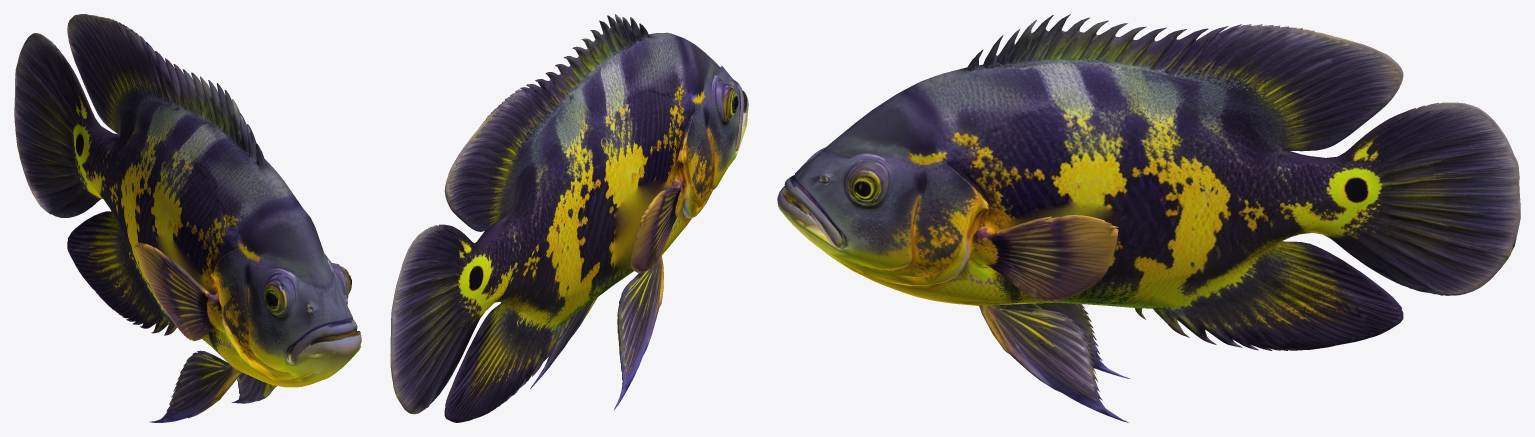
Rendered from cichlid-1.glb.
The picture shows the model from 3 angles, left to right: view 1: azimuth 30°, elevation 25°; view 2: azimuth 150°, elevation 25°; view 3: azimuth 270°, elevation 25°; orthographic projection. The views are drawn at different scales.
Visible parts, largest first — view 1: Body; view 2: Body; view 3: Body.
Part boxes in pixels (x1=…): Body: x1=14, y1=14, x2=361, y2=422; Body: x1=390, y1=14, x2=748, y2=422; Body: x1=777, y1=14, x2=1520, y2=422.
Bounding box in the file's own units: 0.163 × 0.4312 × 0.7505.
Materials: 1 (1 with a texture image).
